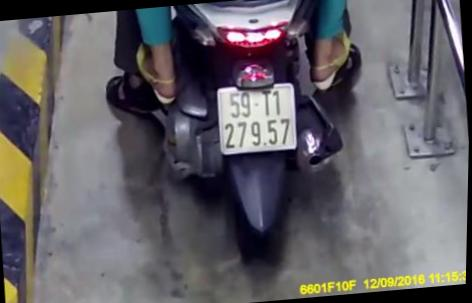LP: (217, 82, 300, 153)
